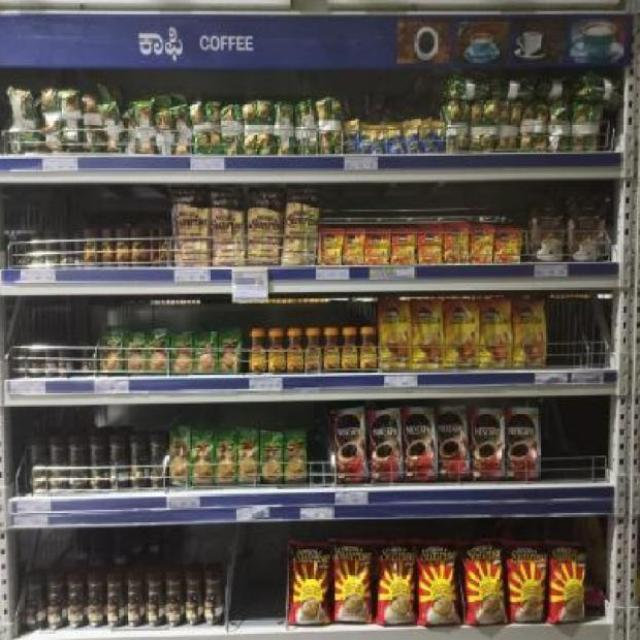Coffee: (405, 407, 437, 482), (333, 412, 367, 482), (437, 408, 469, 480), (479, 300, 513, 367), (378, 301, 410, 371), (507, 410, 539, 479), (514, 298, 546, 366), (445, 299, 477, 367), (412, 300, 444, 368), (472, 410, 504, 478), (372, 411, 401, 478), (445, 226, 468, 264), (470, 225, 493, 262), (319, 228, 341, 266), (365, 230, 389, 264), (391, 230, 415, 264), (494, 230, 518, 263), (287, 328, 305, 371), (419, 229, 441, 264), (360, 327, 377, 370), (343, 230, 364, 264), (306, 327, 322, 370), (324, 328, 340, 371), (268, 329, 284, 372), (249, 330, 265, 371), (342, 329, 358, 368)
